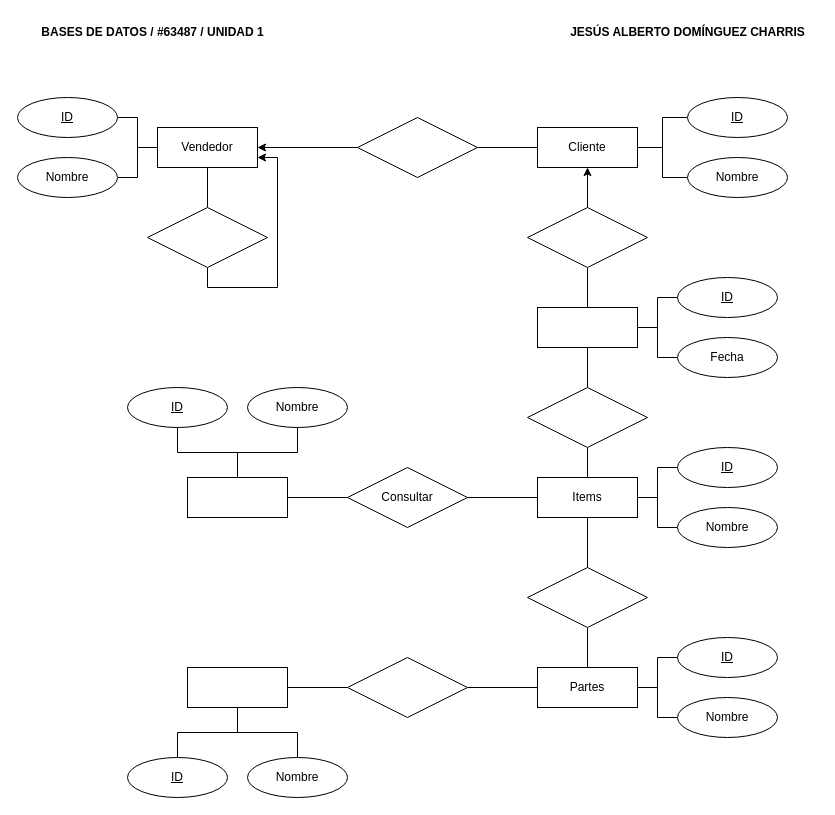
Some shapes in this 835 by 815 pixel diagram are drawn without their labels. The shapes that lost their labels are listed below. From the top down, each one's centre as x and y in pixels, then its label:
At (417,147): "atender".
At (207,237): "Supervisa".
At (587,237): "Comprar".
At (587,327): "Orden Compra".
At (587,417): "Contiene".
At (237,497): "Operativos".
At (587,597): "Formar".
At (237,687): "Proveedor".
At (407,687): "Provee".
